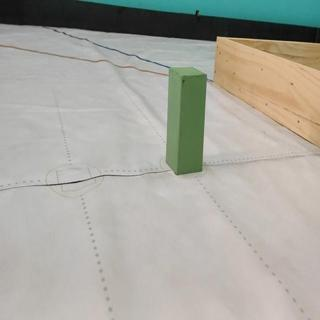greenbox: (163, 64, 209, 177)
